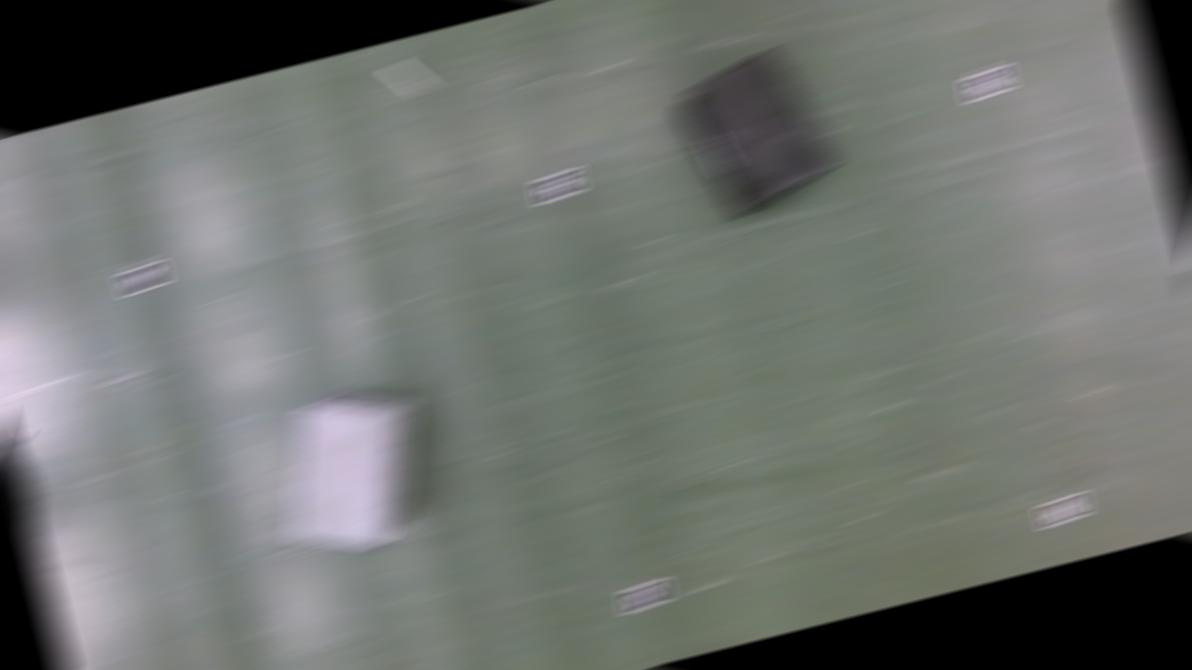probes: (386, 57, 430, 96), (1181, 268, 1192, 308)
rako: (260, 376, 447, 564), (668, 38, 844, 221)
